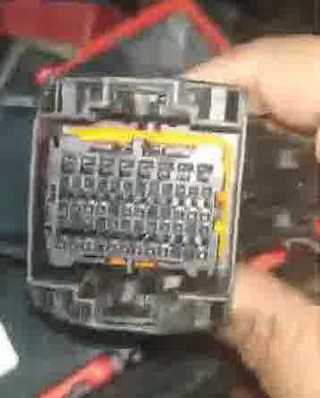connector: (26, 74, 249, 335)
